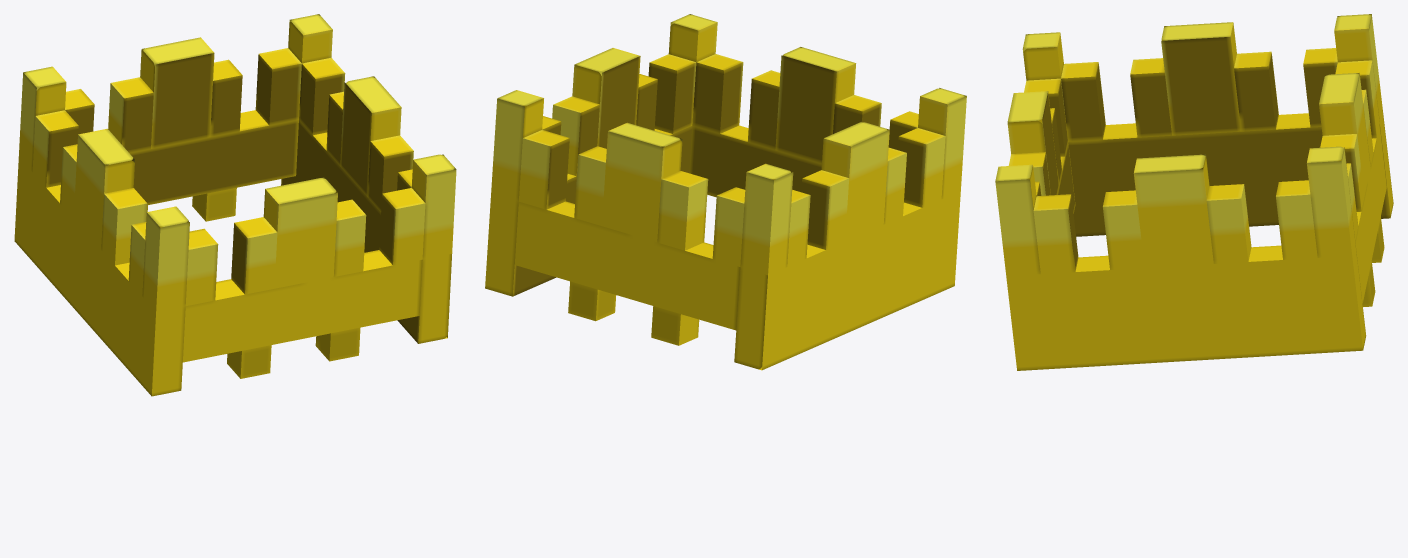
The model's file is crown.obj.
The picture shows the model from 3 angles, left to right: view 1: azimuth 30°, elevation 25°; view 2: azimuth 150°, elevation 25°; view 3: azimuth 270°, elevation 25°; orthographic projection. The views are drawn at different scales.
Visible parts, largest first — view 1: cube, 2, 1; view 2: cube, 2, 1; view 3: cube, 1, 2.
Boxes of the visible parts, x1,y1,x2,y2 form: cube: (14,14,456,396); 2: (101,77,366,276); 1: (60,59,413,294); cube: (485,14,966,370); 2: (552,70,906,250); 1: (574,74,881,249); cube: (995,14,1393,370); 1: (1050,51,1364,269); 2: (1008,58,1373,263).
Size of the model in its own units: 0.6802 by 0.8047 by 0.7127.
